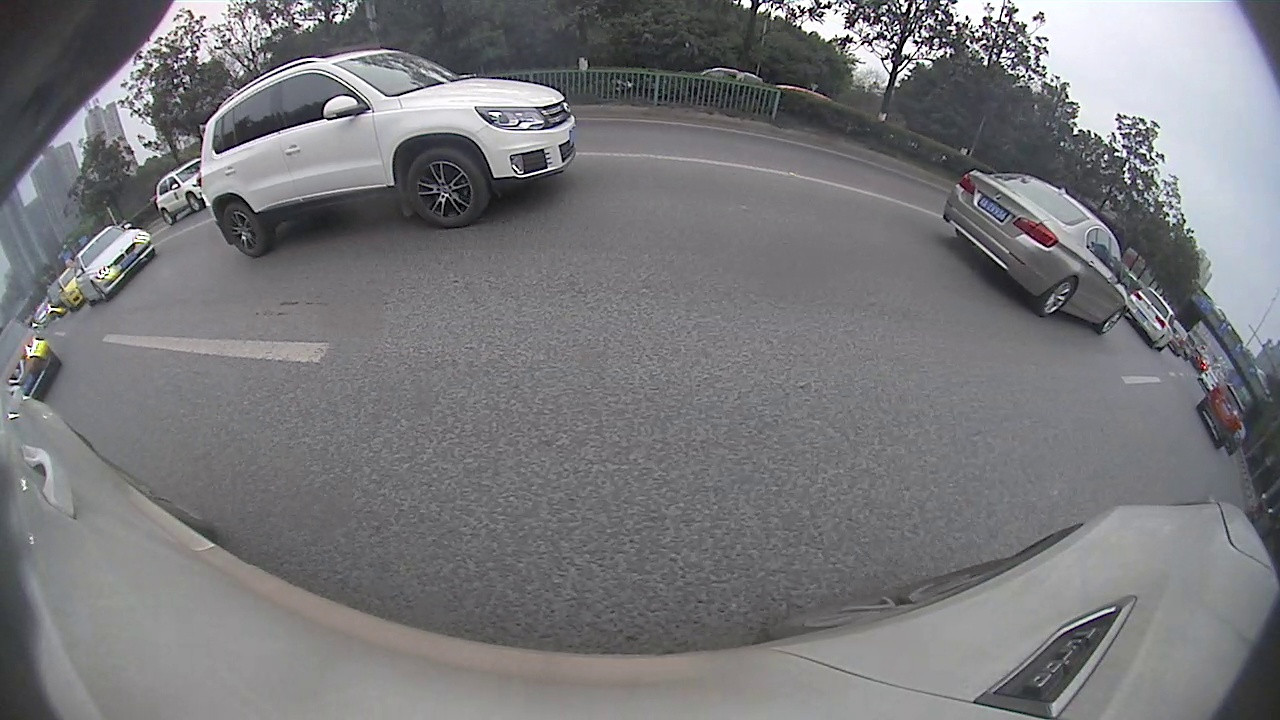car: (198, 50, 575, 258), (945, 168, 1127, 337), (73, 225, 156, 305), (1, 320, 61, 400), (154, 158, 206, 225), (1199, 383, 1243, 449), (1131, 289, 1177, 352)
front: (406, 147, 492, 228), (1097, 305, 1125, 336), (187, 192, 207, 213), (92, 281, 110, 303)
rear: (221, 201, 272, 259), (1036, 276, 1078, 318), (161, 208, 177, 226)
